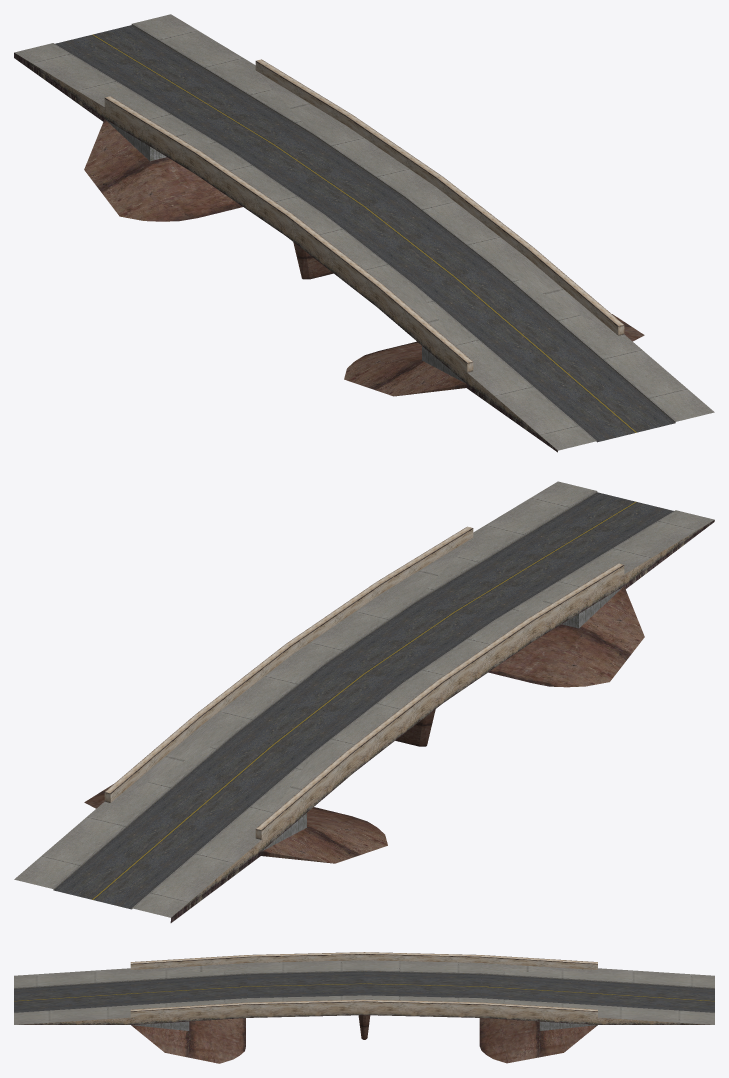
Rendered from vegaseroad048.obj.
3 views of the same model, one above another, from view 1: azimuth 30°, elevation 25°; view 2: azimuth 150°, elevation 25°; view 3: azimuth 270°, elevation 25° (orthographic). The views are drawn at different scales.
Parts seen in each view (by area): view 1: VegasEroad048; view 2: VegasEroad048; view 3: VegasEroad048.
Boxes of the visible parts, bbox=[...] form: VegasEroad048: bbox=[14, 14, 714, 452]; VegasEroad048: bbox=[14, 481, 714, 922]; VegasEroad048: bbox=[14, 952, 714, 1063].
Size of the model in its own units: 34.34 by 8.39 by 120.
Materials: 5 (5 with a texture image).
